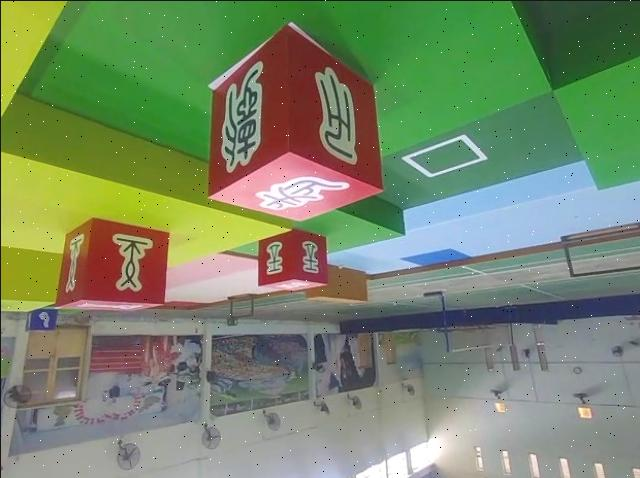R2 Fake: (205, 21, 386, 222)
R2 Real: (51, 216, 170, 314), (255, 226, 329, 293)
